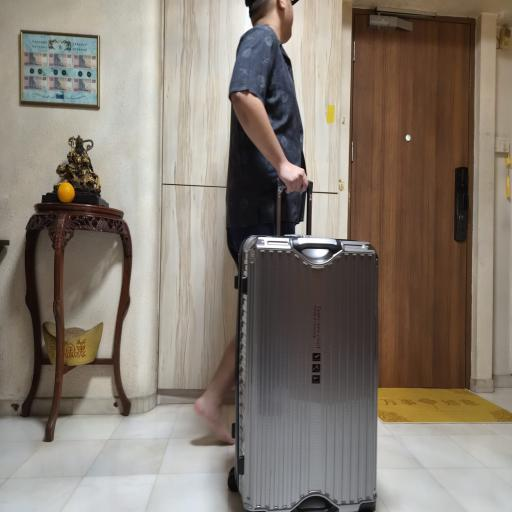person_right: (207, 4, 382, 510)
